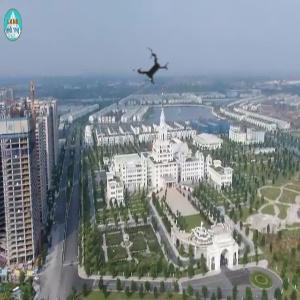drone: (119, 36, 186, 103)
